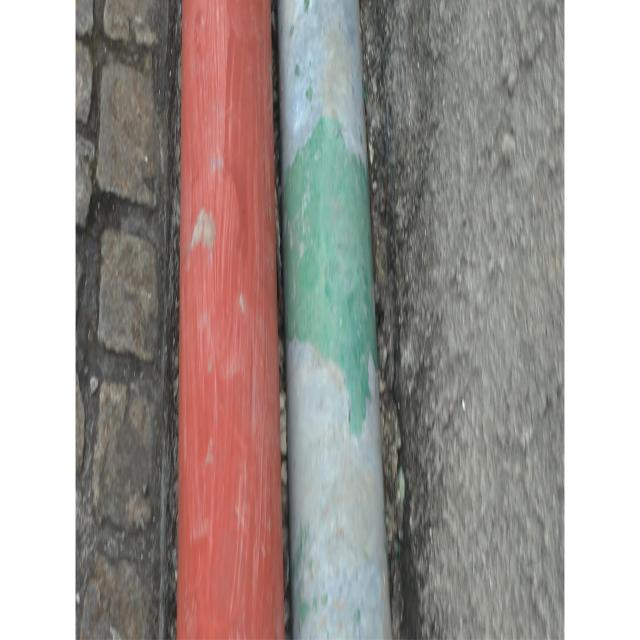gas: (174, 0, 283, 640), (276, 1, 384, 640)
